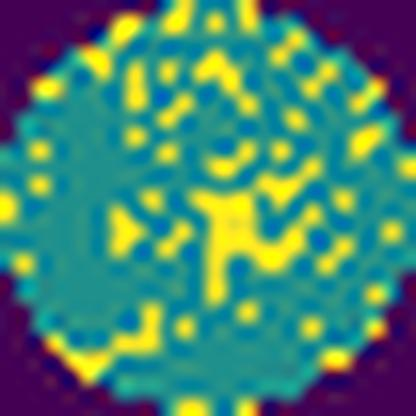Center: (189, 180, 326, 303)
